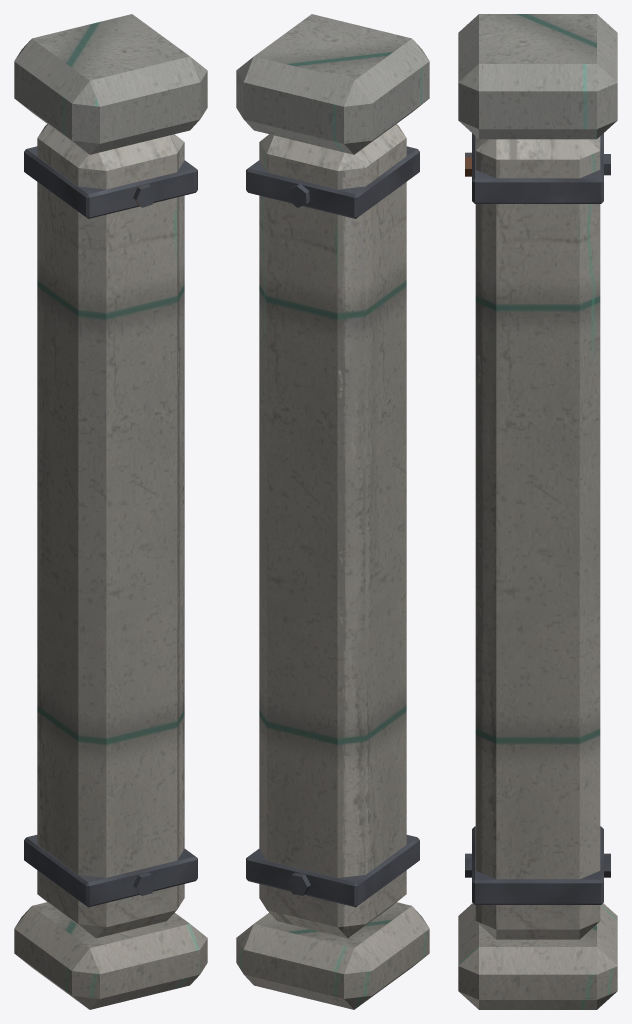
File: sutun.glb
3 renders of one model, left to right at view 1: azimuth 30°, elevation 25°; view 2: azimuth 150°, elevation 25°; view 3: azimuth 270°, elevation 25°, orthographic.
Visible parts, largest first — view 1: sutun; view 2: sutun; view 3: sutun.
Part boxes in pixels (left/top/right/bottom): sutun: left=14, top=14, right=207, bottom=1009; sutun: left=236, top=14, right=429, bottom=1009; sutun: left=458, top=14, right=617, bottom=1009.
Size of the model in its own units: 0.46 by 3.01 by 0.46.
Materials: 1 (1 with a texture image).
